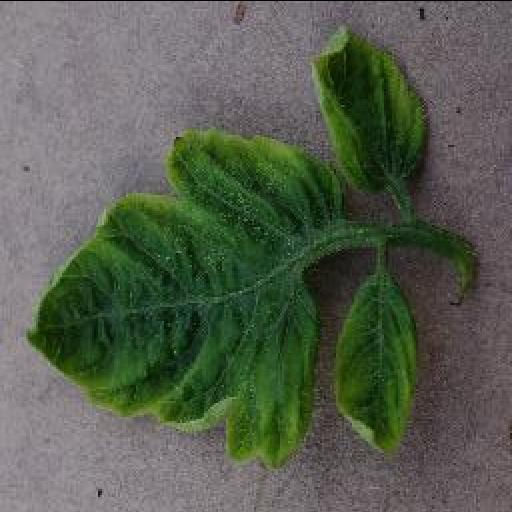disease_tomato: (22, 128, 348, 468), (314, 22, 426, 192), (331, 272, 417, 453)
